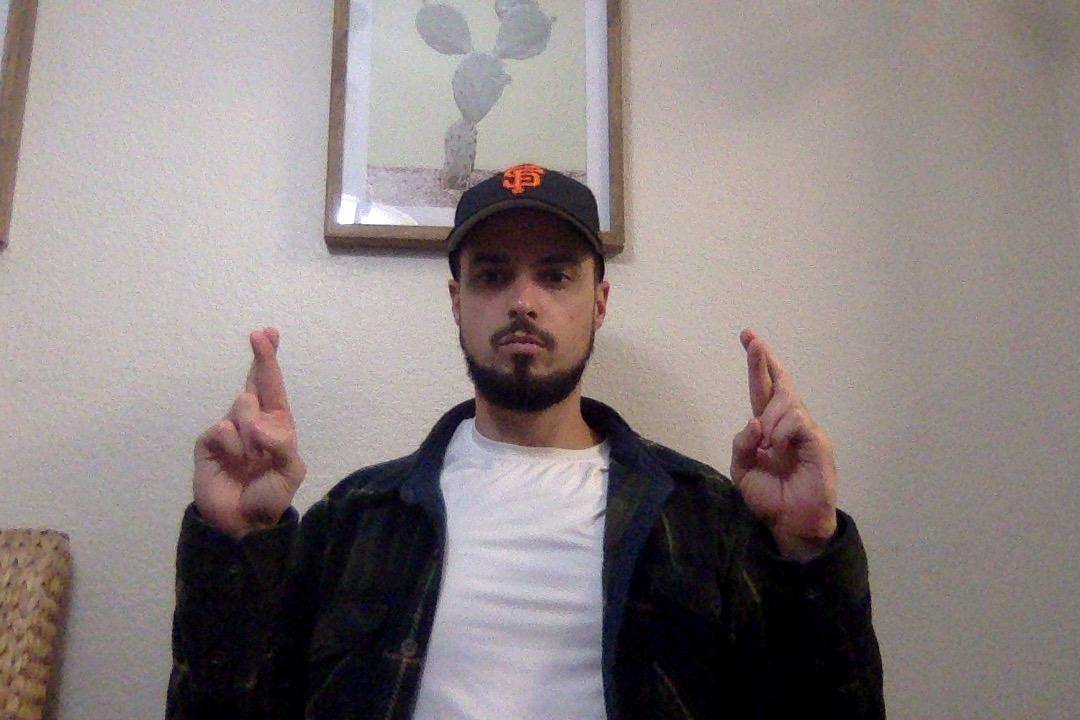Fingers-Crossed: (717, 325, 845, 538), (185, 323, 312, 531)
